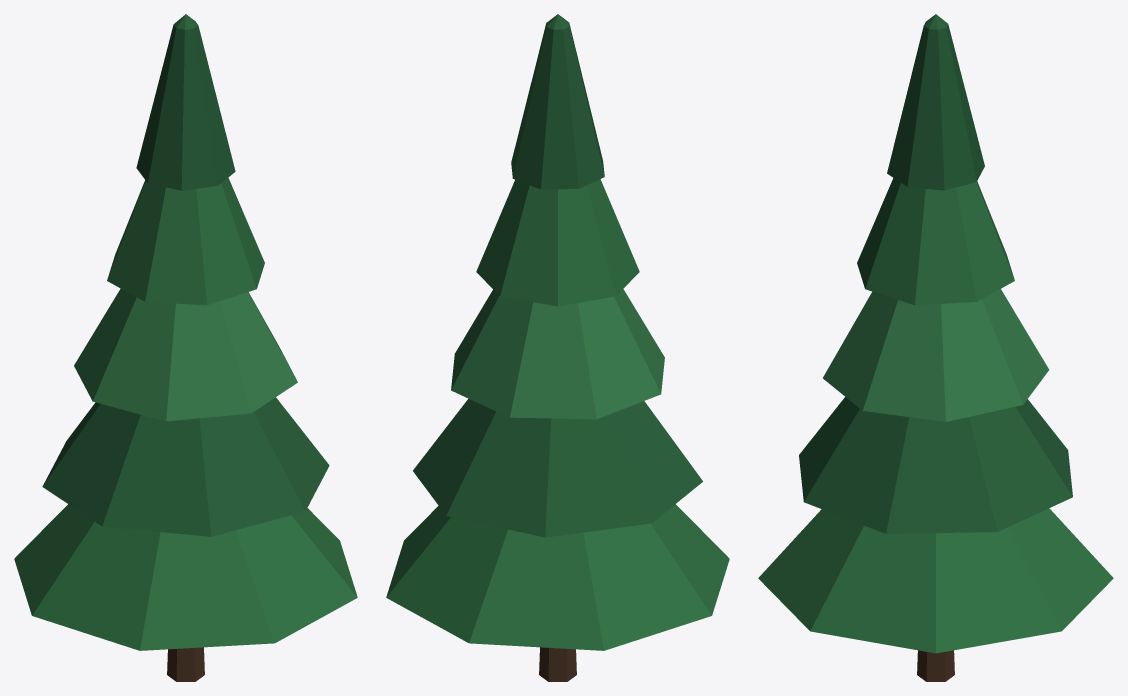
File: tree_pine.glb
The picture shows the model from 3 angles, left to right: view 1: azimuth 30°, elevation 25°; view 2: azimuth 150°, elevation 25°; view 3: azimuth 270°, elevation 25°; orthographic projection.
Parts seen in each view (by area): view 1: tree_pine; view 2: tree_pine; view 3: tree_pine.
Part boxes in pixels (x1,y1,x2,y2): tree_pine: [14, 14, 357, 681]; tree_pine: [386, 14, 729, 681]; tree_pine: [758, 14, 1113, 681].
Bounding box in the file's own units: 3 × 6.15 × 3.
